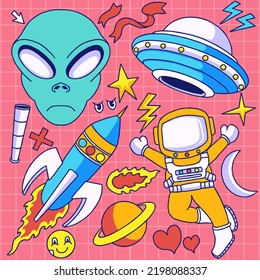roket: (10, 102, 128, 247)
